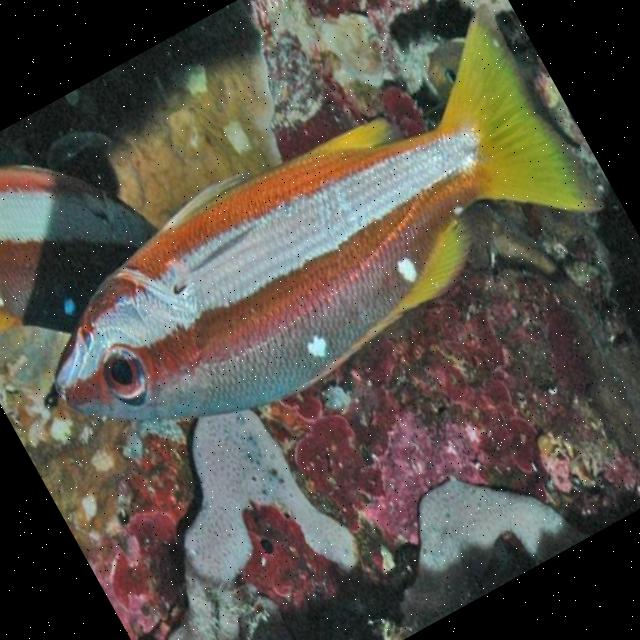ikan: (0, 1, 616, 499)
